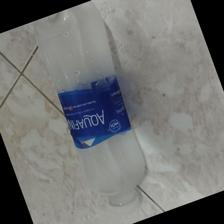Aquafina: (33, 3, 149, 220)
